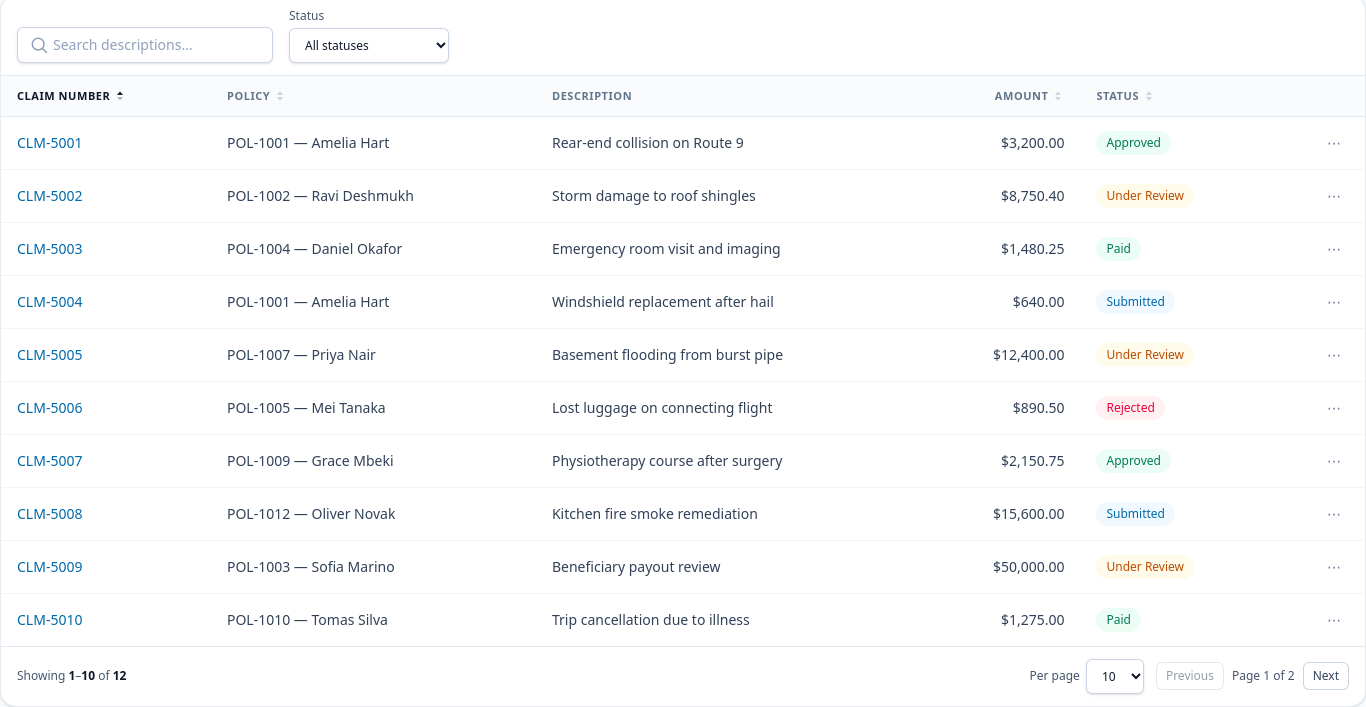
Test: ClaimListPage › moves to the next page
The width and height of the screenshot is (1366, 707).
(page scrolled)
Expected: the link "CLM-5001" is shown, [17,133,82,152]
Click the button "Next": (1326, 676) [1303,662,1349,690]
(page scrolled)
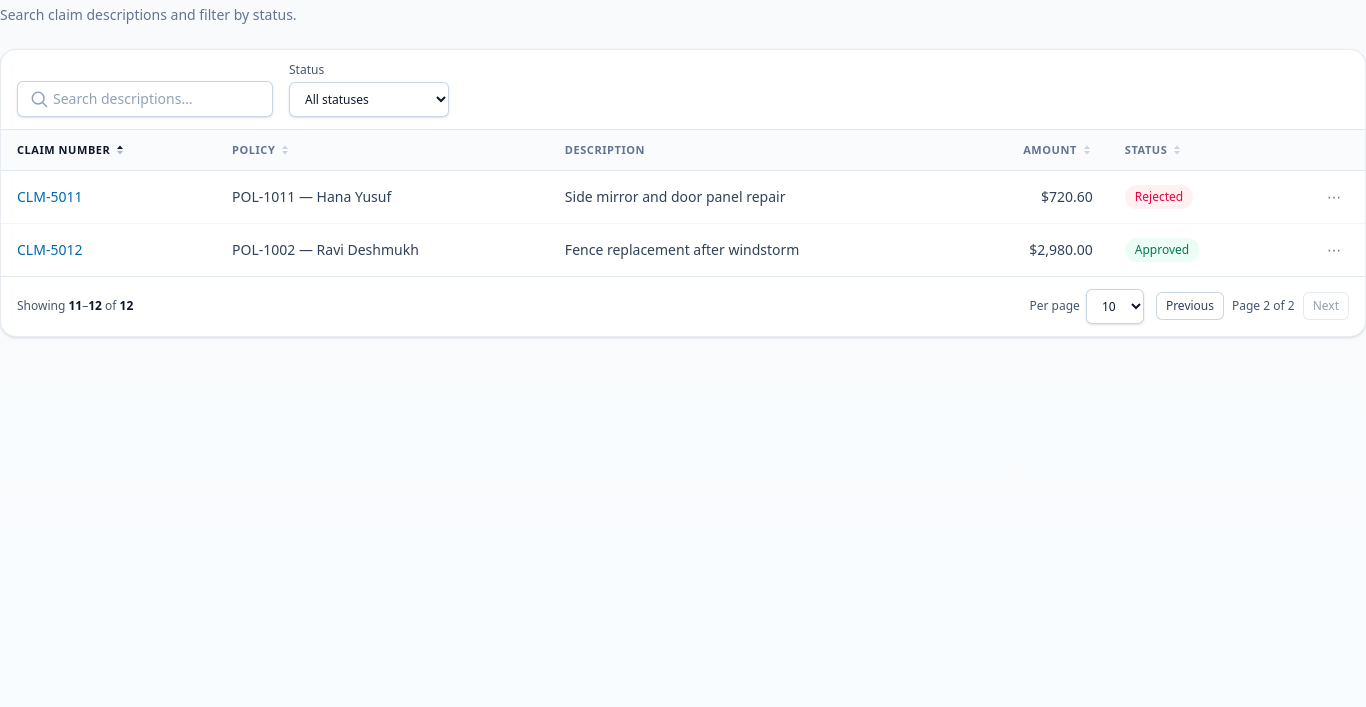
Result: the link "CLM-5011" is shown at [17,187,82,206]
Result: the link "CLM-5001" is gone
